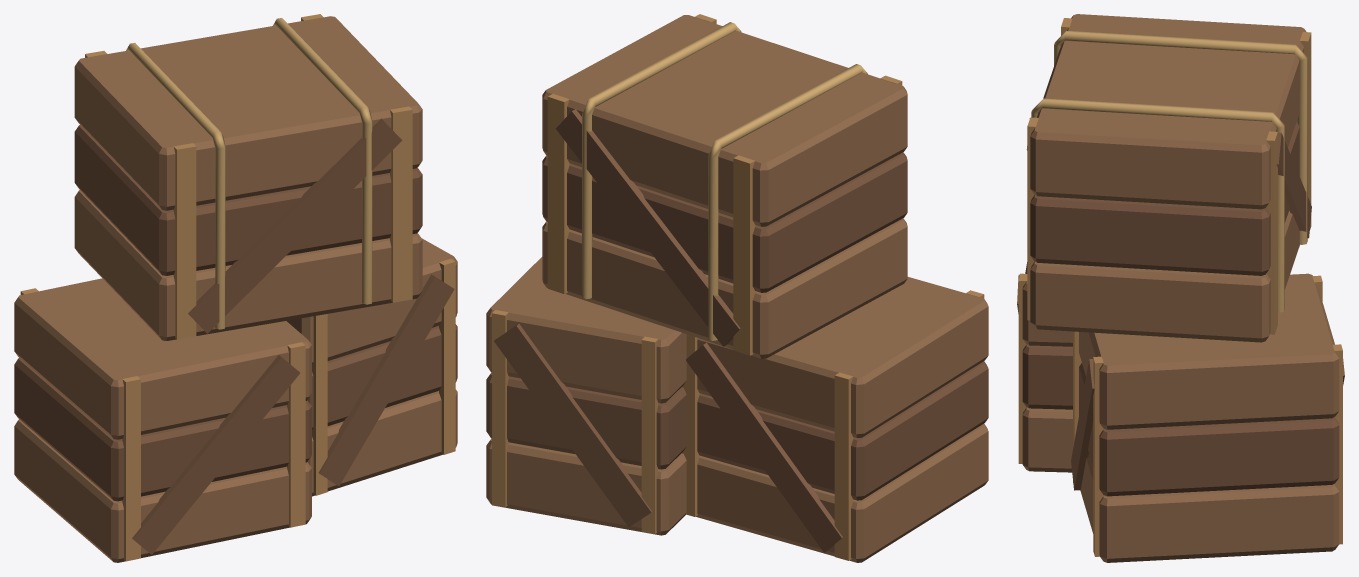
Rendered from crate_stack.glb.
The picture shows the model from 3 angles, left to right: view 1: azimuth 30°, elevation 25°; view 2: azimuth 150°, elevation 25°; view 3: azimuth 270°, elevation 25°; orthographic projection. The views are drawn at different scales.
Visible parts, largest first — view 1: crate_stack; view 2: crate_stack; view 3: crate_stack.
Part boxes in pixels (bbox=[...]): crate_stack: bbox=[14, 14, 457, 562]; crate_stack: bbox=[486, 14, 988, 562]; crate_stack: bbox=[1017, 14, 1344, 562].
Size of the model in its own units: 0.95 by 0.95 by 0.7.
